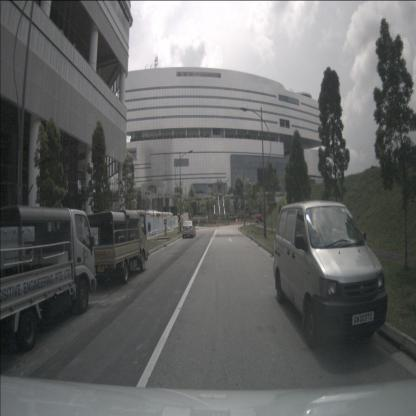vehicle-bicycle: (164, 225, 167, 236)
vehicle-car: (273, 200, 388, 350), (182, 221, 196, 238)
vehicle-truck: (0, 204, 97, 353), (84, 209, 148, 284)
